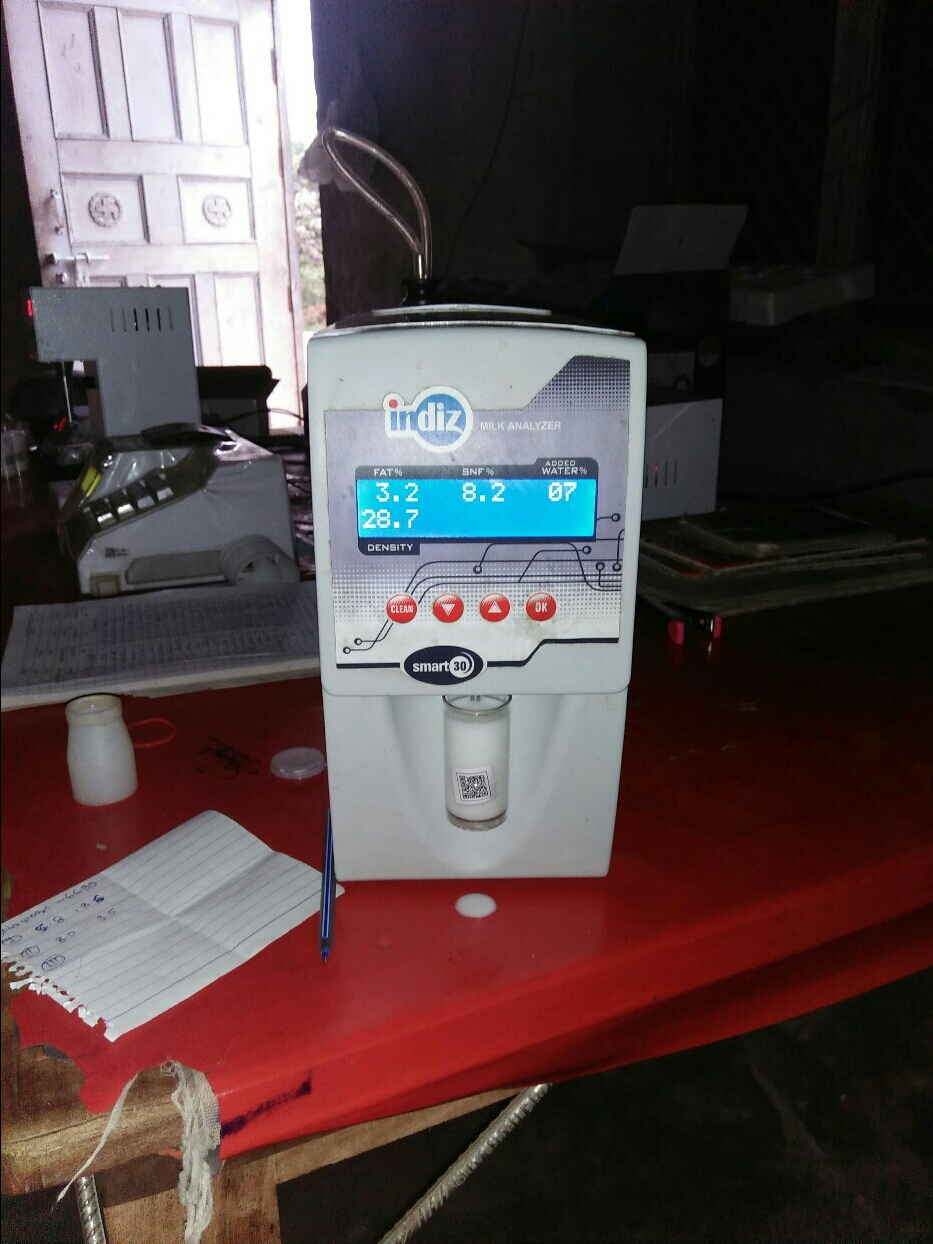lcd: (354, 469, 605, 548)
qr: (439, 763, 520, 814)
